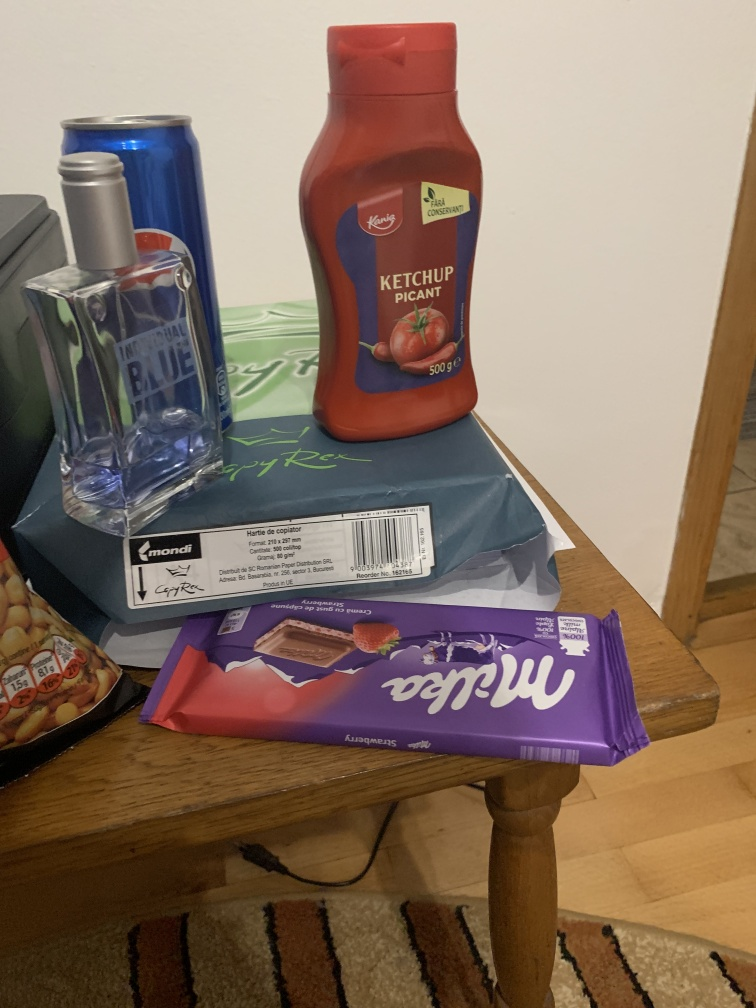ketchup: (292, 19, 494, 459)
milka: (115, 584, 655, 802)
peanuts: (3, 500, 148, 815)
pepsi: (63, 104, 248, 452)
